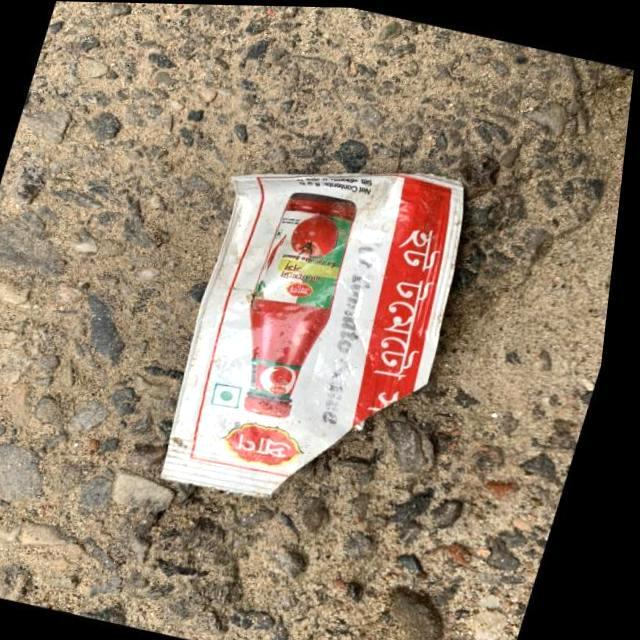packet: (149, 130, 498, 531)
